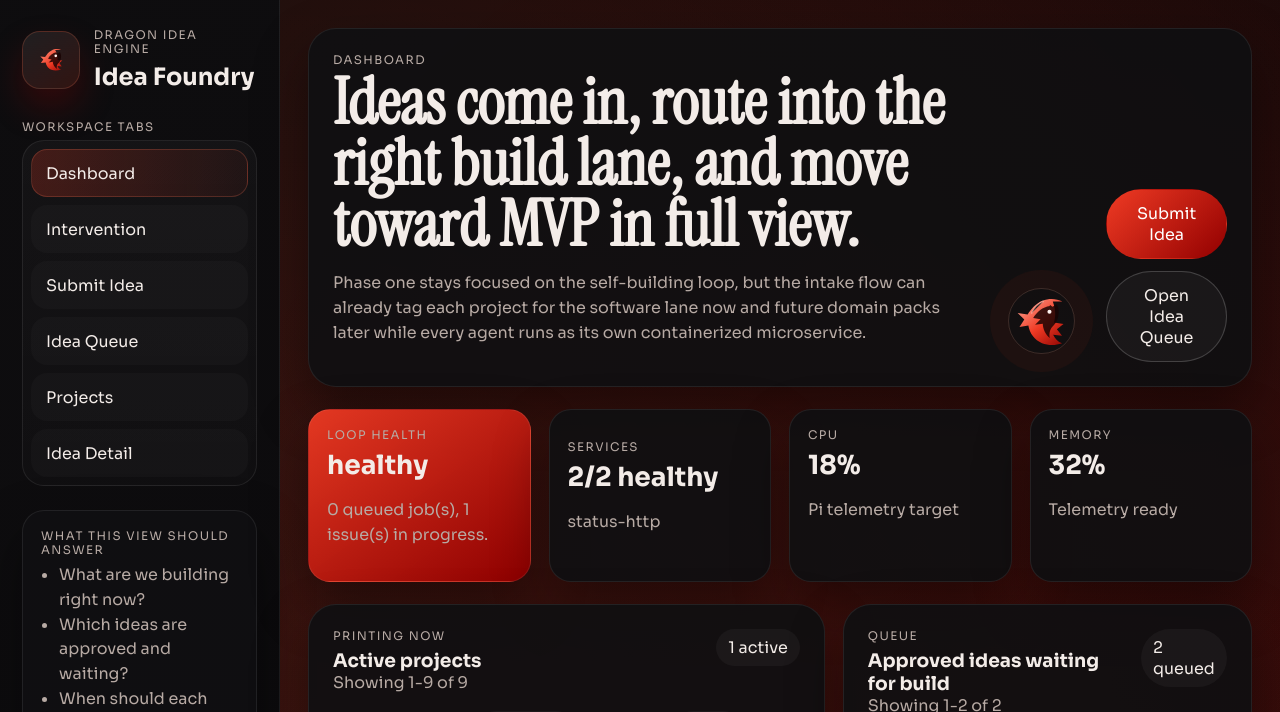
Test: React dashboard › opens the intervention workspace from the loop health card
Expected: the heading "Ideas come in, route into the right build lane" is shown, x1=333 y1=61 x2=944 y2=266
Click the button "Loop health healthy 0 queued job(s), 1 issue(s) in progress.". click: (419, 496)
box: x1=308 y1=409 x2=530 y2=582
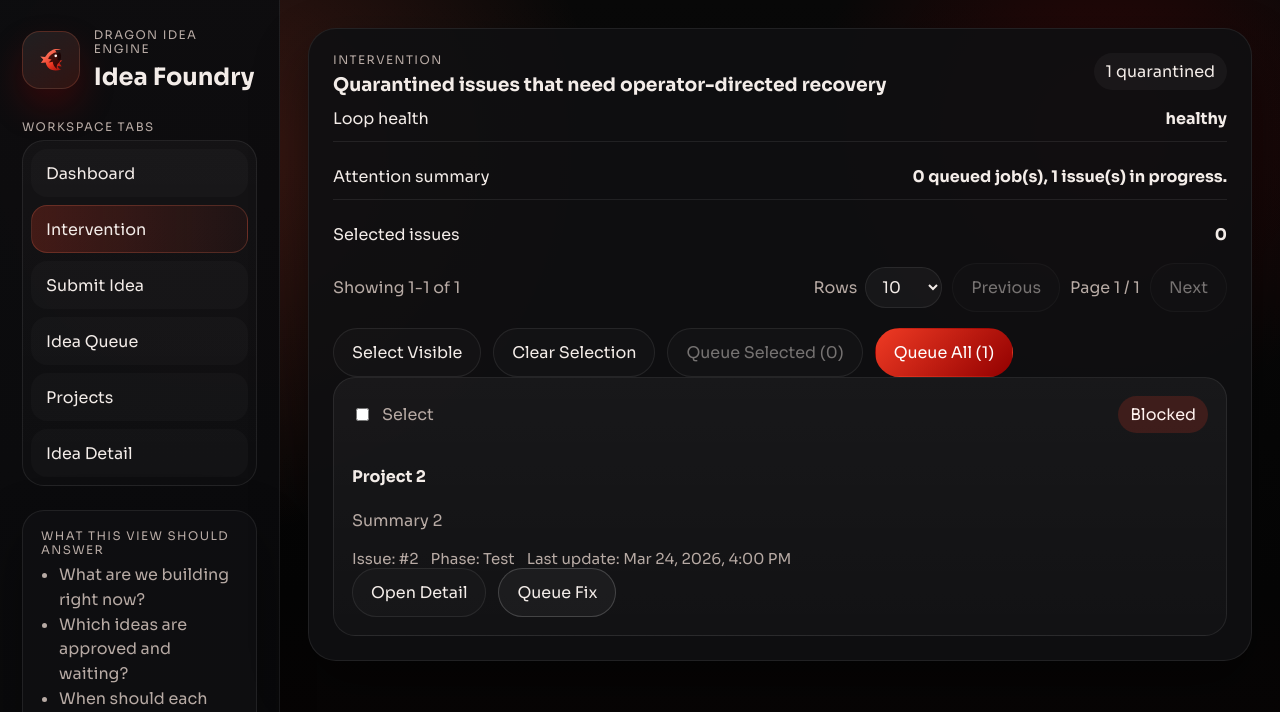
Expected: the heading "Quarantined issues that need operator-directed recovery" is shown, x1=333 y1=73 x2=886 y2=96
